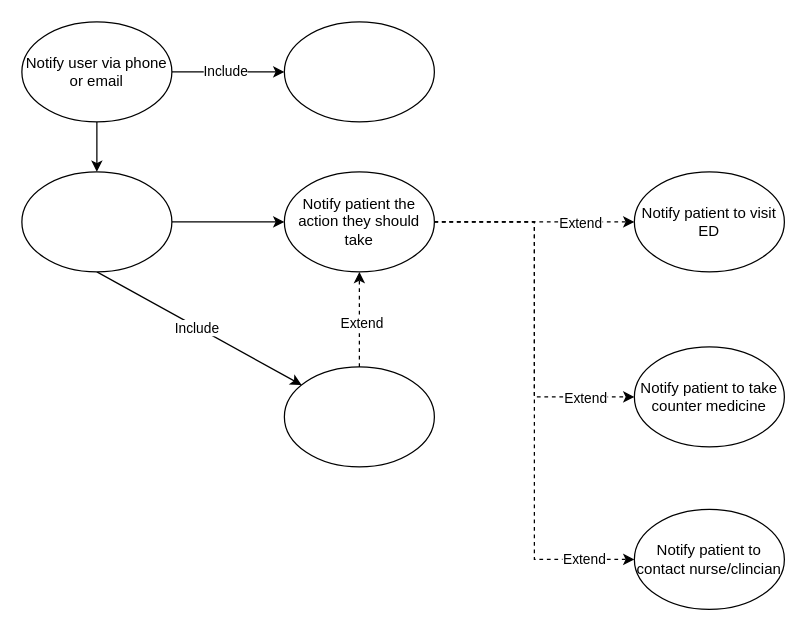
Image size: 806x631. Some labels were removed from this diagram. Each missing label, with the centre of its shape:
Summary triage result site: the point at 96,221
User authentication: the point at 358,71
View detail triage result: the point at 358,416
